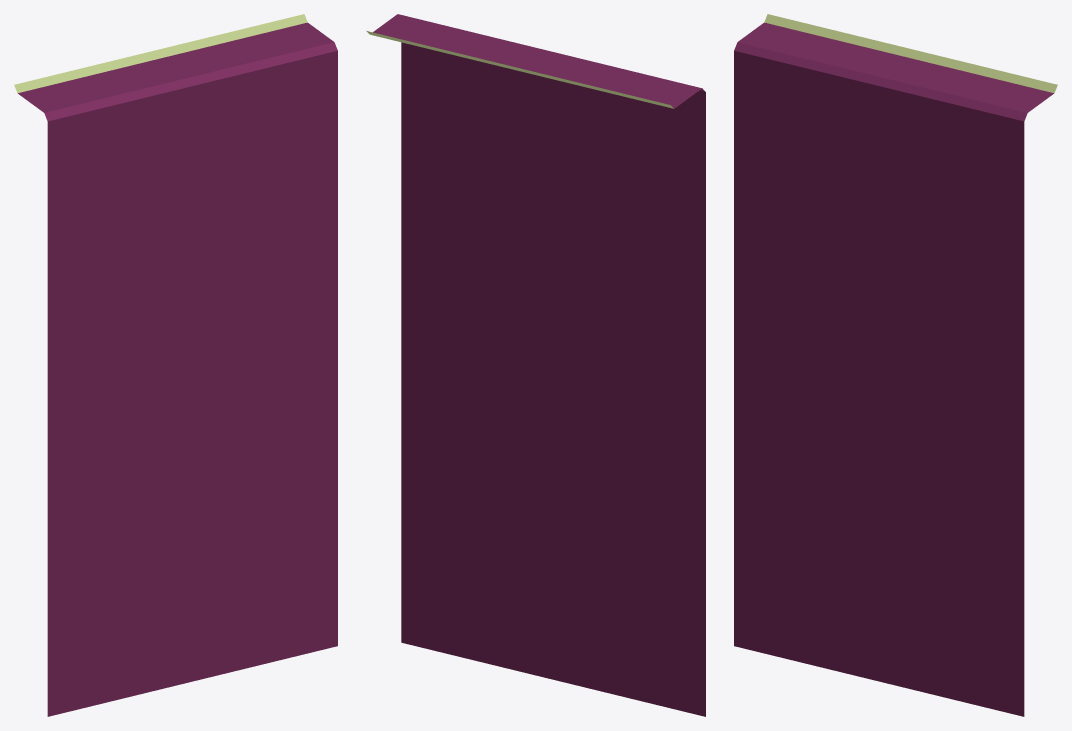
Rendered from SocketOut_CornerOut_Straight_0.35x1.0.obj.
3 views of the same model, side by side, from view 1: azimuth 30°, elevation 25°; view 2: azimuth 150°, elevation 25°; view 3: azimuth 330°, elevation 25° (orthographic). The views are drawn at different scales.
Visible parts, largest first — view 1: SocketOut_CornerOut_Straight_0.35x1.0; view 2: SocketOut_CornerOut_Straight_0.35x1.0; view 3: SocketOut_CornerOut_Straight_0.35x1.0.
Part boxes in pixels (box(x1,y1,x2,y2)): SocketOut_CornerOut_Straight_0.35x1.0: box(14, 14, 337, 716); SocketOut_CornerOut_Straight_0.35x1.0: box(366, 14, 705, 716); SocketOut_CornerOut_Straight_0.35x1.0: box(734, 14, 1057, 716).
Size of the model in its own units: 0.5 by 1 by 0.1.
